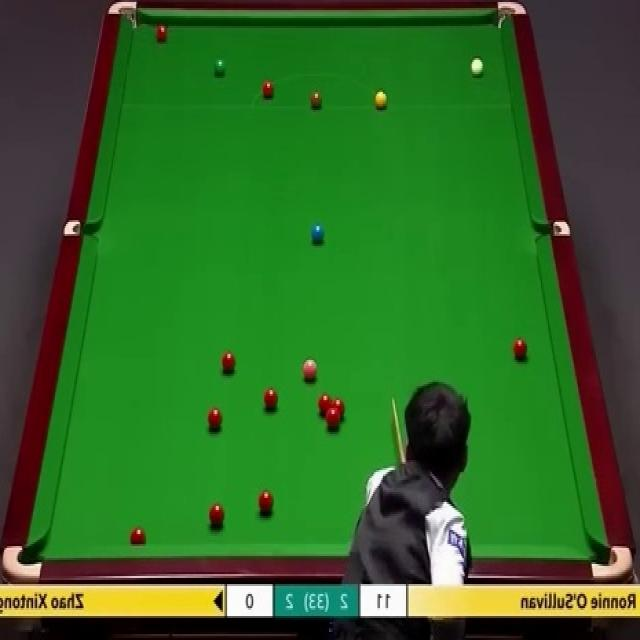blue-ball: (310, 224, 325, 244)
brown-ball: (310, 88, 322, 108)
green-ball: (214, 56, 228, 78)
pink-ball: (301, 359, 318, 384)
red-ball: (208, 502, 226, 528), (220, 349, 236, 375), (513, 338, 528, 365), (260, 486, 274, 514), (209, 408, 223, 434), (263, 386, 278, 410), (332, 398, 346, 422), (318, 393, 331, 418), (130, 525, 146, 545), (261, 78, 276, 99), (324, 411, 340, 430), (154, 23, 168, 44)
white-ball: (469, 56, 485, 78)
yellow-ball: (374, 91, 388, 109)
